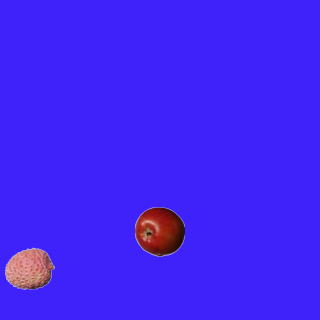Apple Braeburn: (134, 206, 184, 256)
Lychee: (4, 243, 54, 293)
